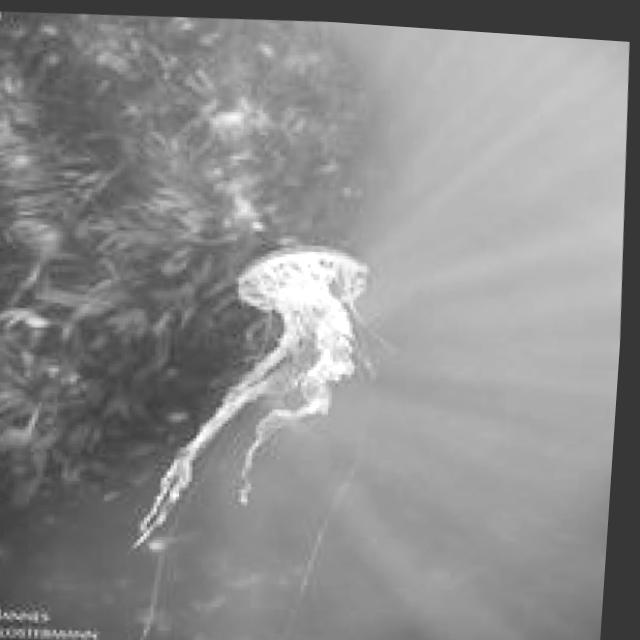Moon-jellyfish: (127, 226, 391, 561)
